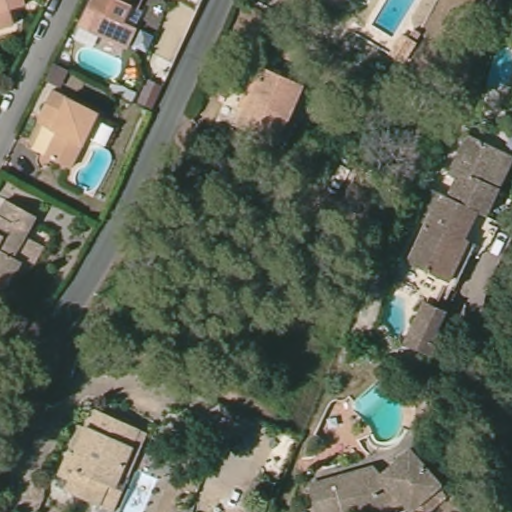pool: (349, 366, 420, 444), (71, 43, 131, 87), (373, 293, 415, 345), (70, 143, 112, 194), (368, 1, 424, 37), (492, 45, 512, 93)
